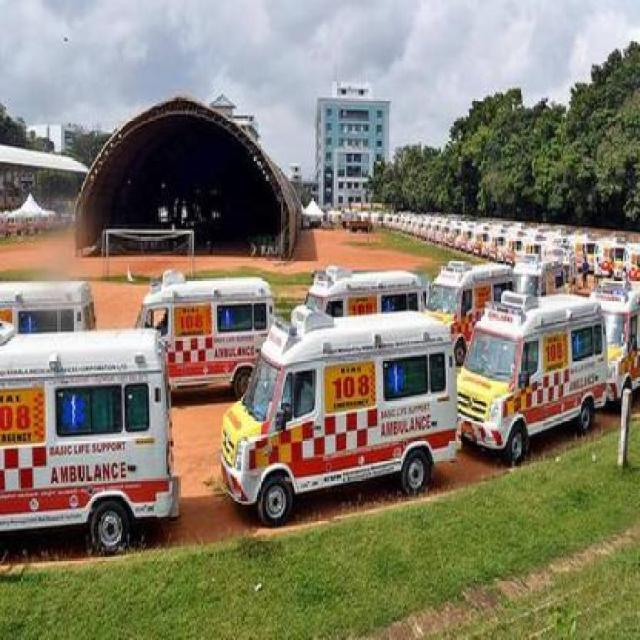Ambulance: (0, 224, 638, 566), (214, 304, 462, 530), (0, 324, 182, 560), (452, 288, 611, 467), (131, 269, 277, 402)
